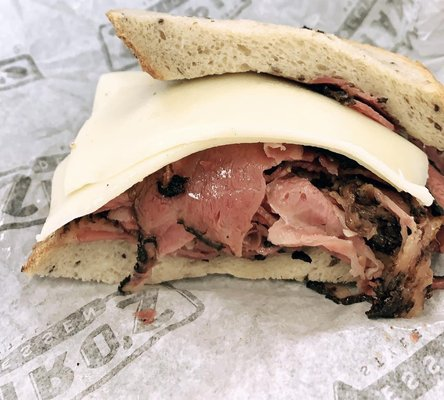soup: (12, 13, 444, 314)
